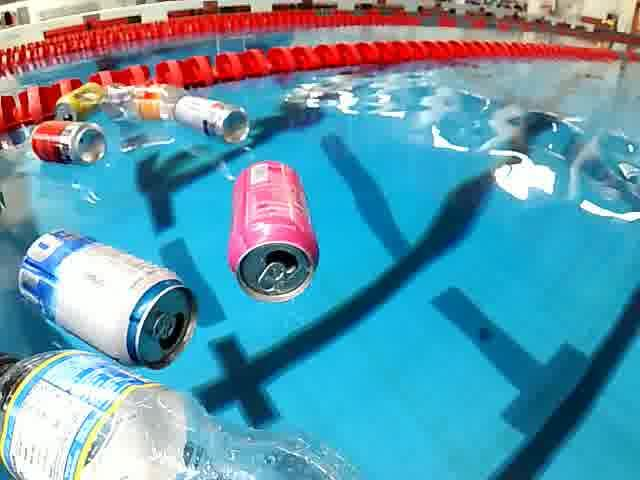Bottle: (1, 336, 372, 480), (96, 80, 192, 126)
Can: (13, 228, 202, 376), (230, 158, 322, 310), (170, 94, 250, 148), (27, 118, 112, 164), (54, 84, 106, 128)
